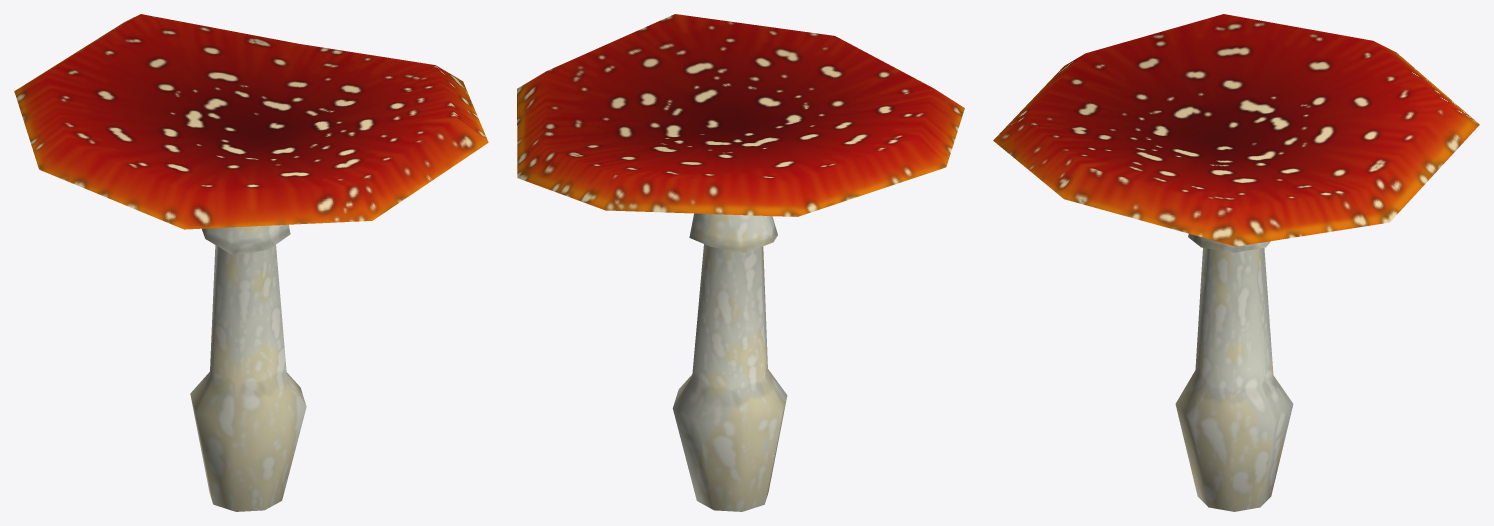
Rendered from amanita_a_low.FBX.
3 views of the same model, side by side, from view 1: azimuth 30°, elevation 25°; view 2: azimuth 150°, elevation 25°; view 3: azimuth 270°, elevation 25° (orthographic). The views are drawn at different scales.
Parts seen in each view (by area): view 1: amanita_A_low; view 2: amanita_A_low; view 3: amanita_A_low.
Part boxes in pixels (x1,y1,x2,y2): amanita_A_low: [14, 14, 488, 511]; amanita_A_low: [517, 14, 964, 511]; amanita_A_low: [993, 14, 1479, 511].
Size of the model in its own units: 1.18 by 1.06 by 1.18.
Materials: 1 (1 with a texture image).
